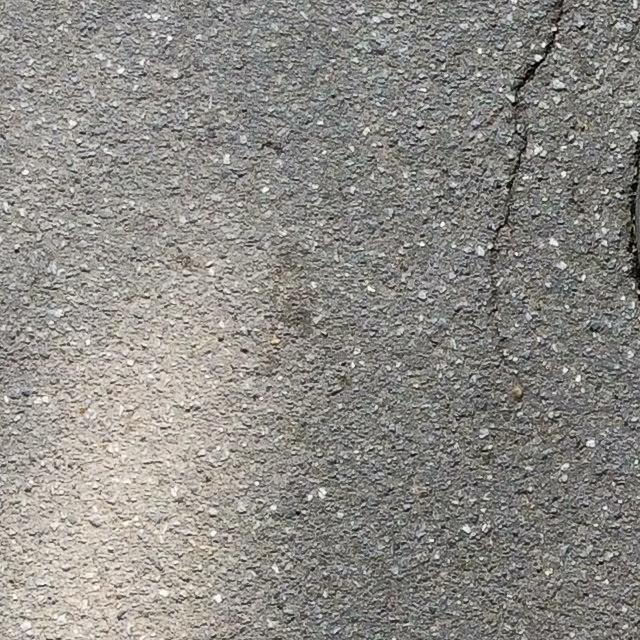LongitudinalCrack: (487, 1, 565, 252), (628, 134, 640, 299)
